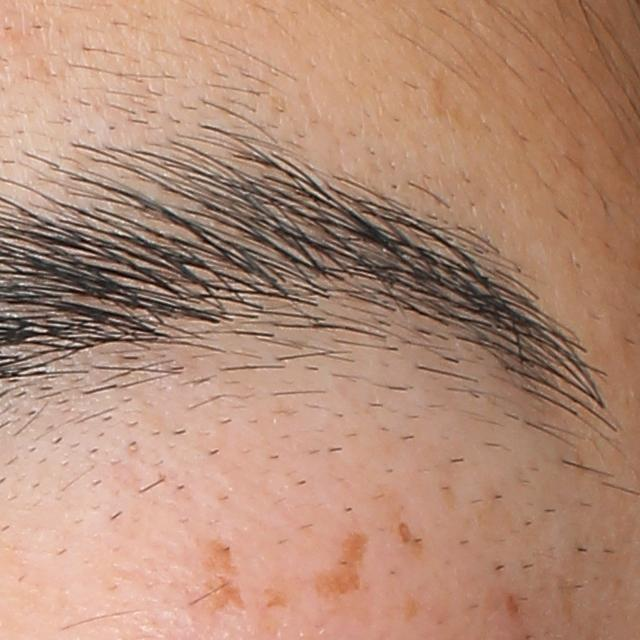melasma: (314, 533, 368, 593), (205, 540, 238, 573)
